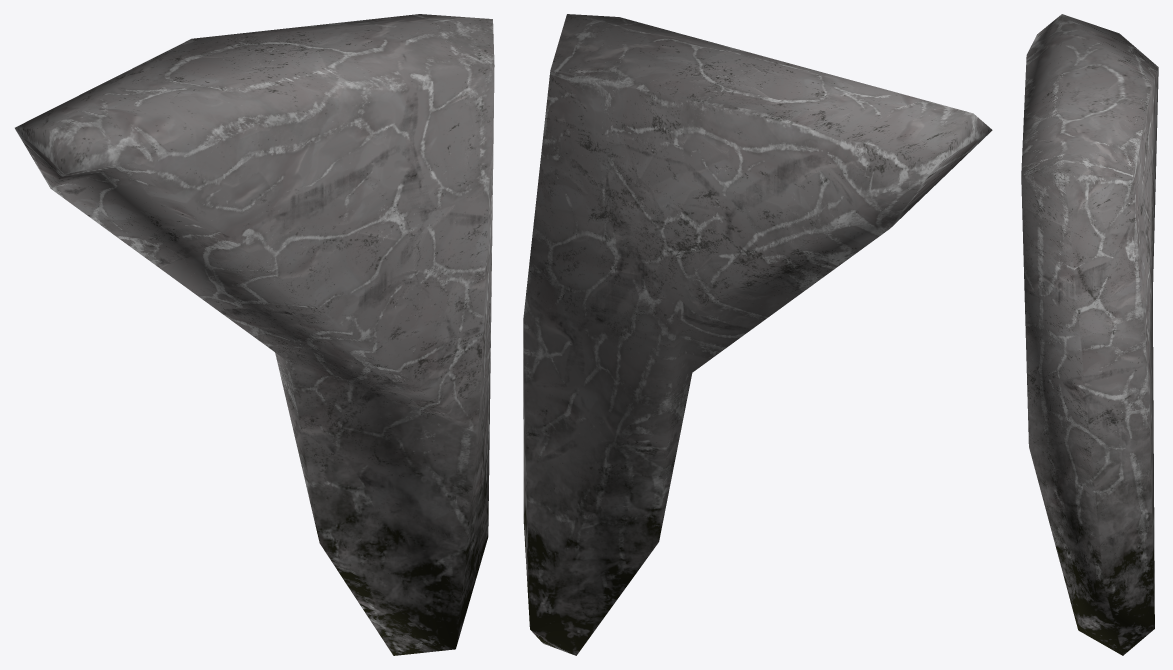
Rendered from cave_rock_001.fbx.
The picture shows the model from 3 angles, left to right: view 1: azimuth 30°, elevation 25°; view 2: azimuth 150°, elevation 25°; view 3: azimuth 270°, elevation 25°; orthographic projection. The views are drawn at different scales.
Parts seen in each view (by area): view 1: cave_rock_001_low; view 2: cave_rock_001_low; view 3: cave_rock_001_low.
Part boxes in pixels (left/top/right/bottom): cave_rock_001_low: left=15, top=14, right=494, bottom=655; cave_rock_001_low: left=523, top=14, right=992, bottom=655; cave_rock_001_low: left=1021, top=14, right=1158, bottom=655.
Bounding box in the file's own units: 327 × 439 × 112.
